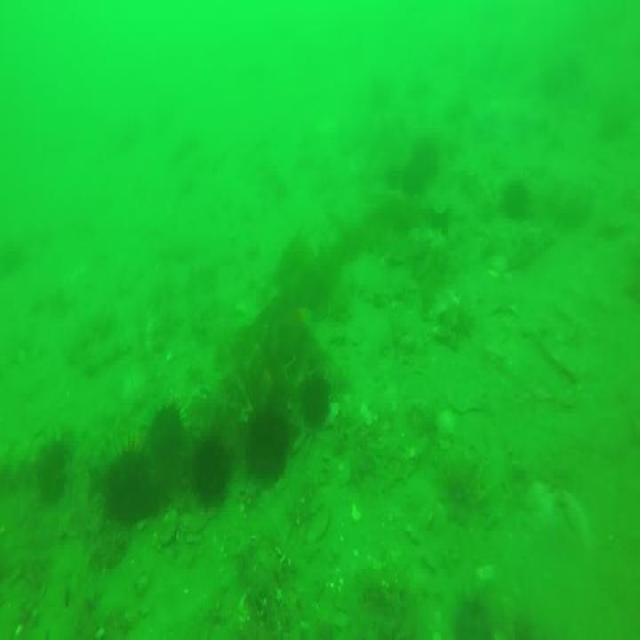echinus: (101, 441, 155, 528), (245, 397, 290, 482), (193, 427, 233, 504), (31, 433, 67, 503), (298, 368, 332, 428), (151, 405, 181, 466), (407, 133, 441, 186), (503, 178, 531, 222)
scallop: (436, 411, 455, 441)
